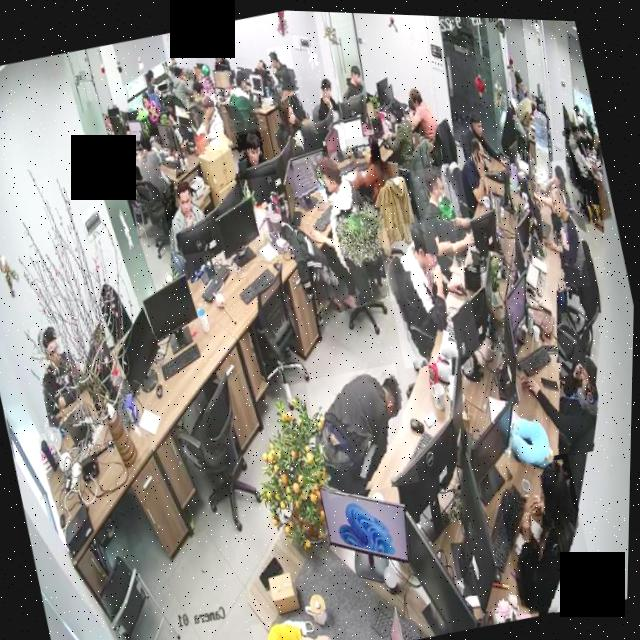person: (288, 140, 404, 313), (492, 446, 604, 616), (375, 208, 486, 367), (305, 357, 423, 498), (519, 349, 612, 459), (409, 157, 482, 272), (527, 169, 593, 289), (29, 317, 97, 431), (564, 117, 615, 220), (368, 91, 425, 177), (344, 127, 401, 210), (159, 175, 217, 256), (125, 124, 175, 205), (184, 89, 235, 154), (399, 80, 444, 151), (253, 605, 343, 640), (219, 63, 263, 132), (268, 90, 315, 147), (466, 106, 509, 168), (532, 153, 577, 211), (304, 72, 346, 131), (232, 126, 277, 179), (165, 57, 205, 115), (265, 41, 300, 95), (141, 63, 172, 109), (342, 61, 369, 101), (207, 44, 234, 80)
